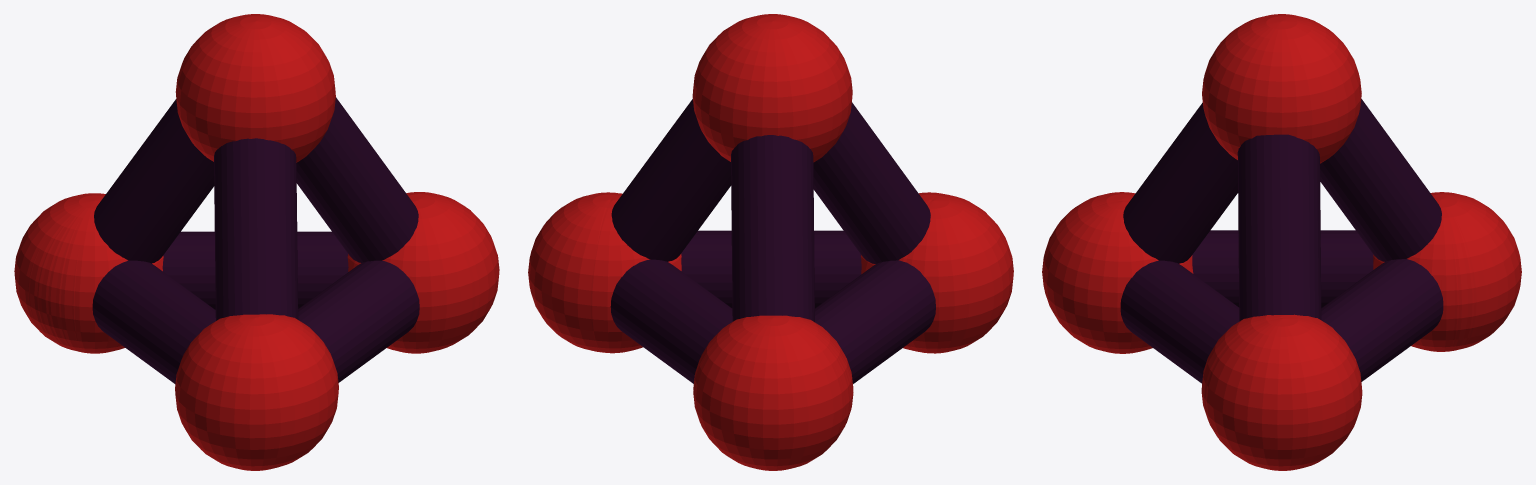
File: 3Dvertex4.fbx
3 views of the same model, side by side, from view 1: azimuth 30°, elevation 25°; view 2: azimuth 150°, elevation 25°; view 3: azimuth 270°, elevation 25° (orthographic).
Parts seen in each view (by area): view 1: Cylinder.004; view 2: Cylinder.004; view 3: Cylinder.004.
Boxes of the visible parts, x1,y1,x2,y2 form: Cylinder.004: (14, 14, 499, 470); Cylinder.004: (528, 14, 1013, 470); Cylinder.004: (1042, 14, 1521, 470).
Size of the model in its own units: 552 by 500 by 600.
